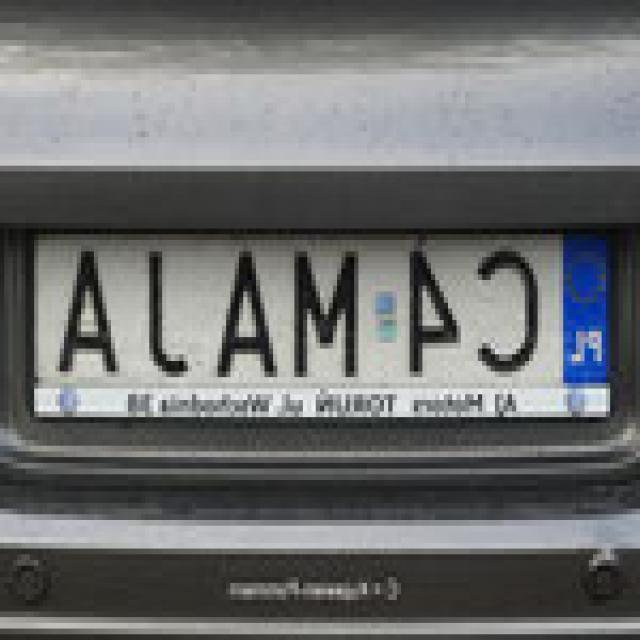pl_license_plate: (38, 223, 614, 377)
